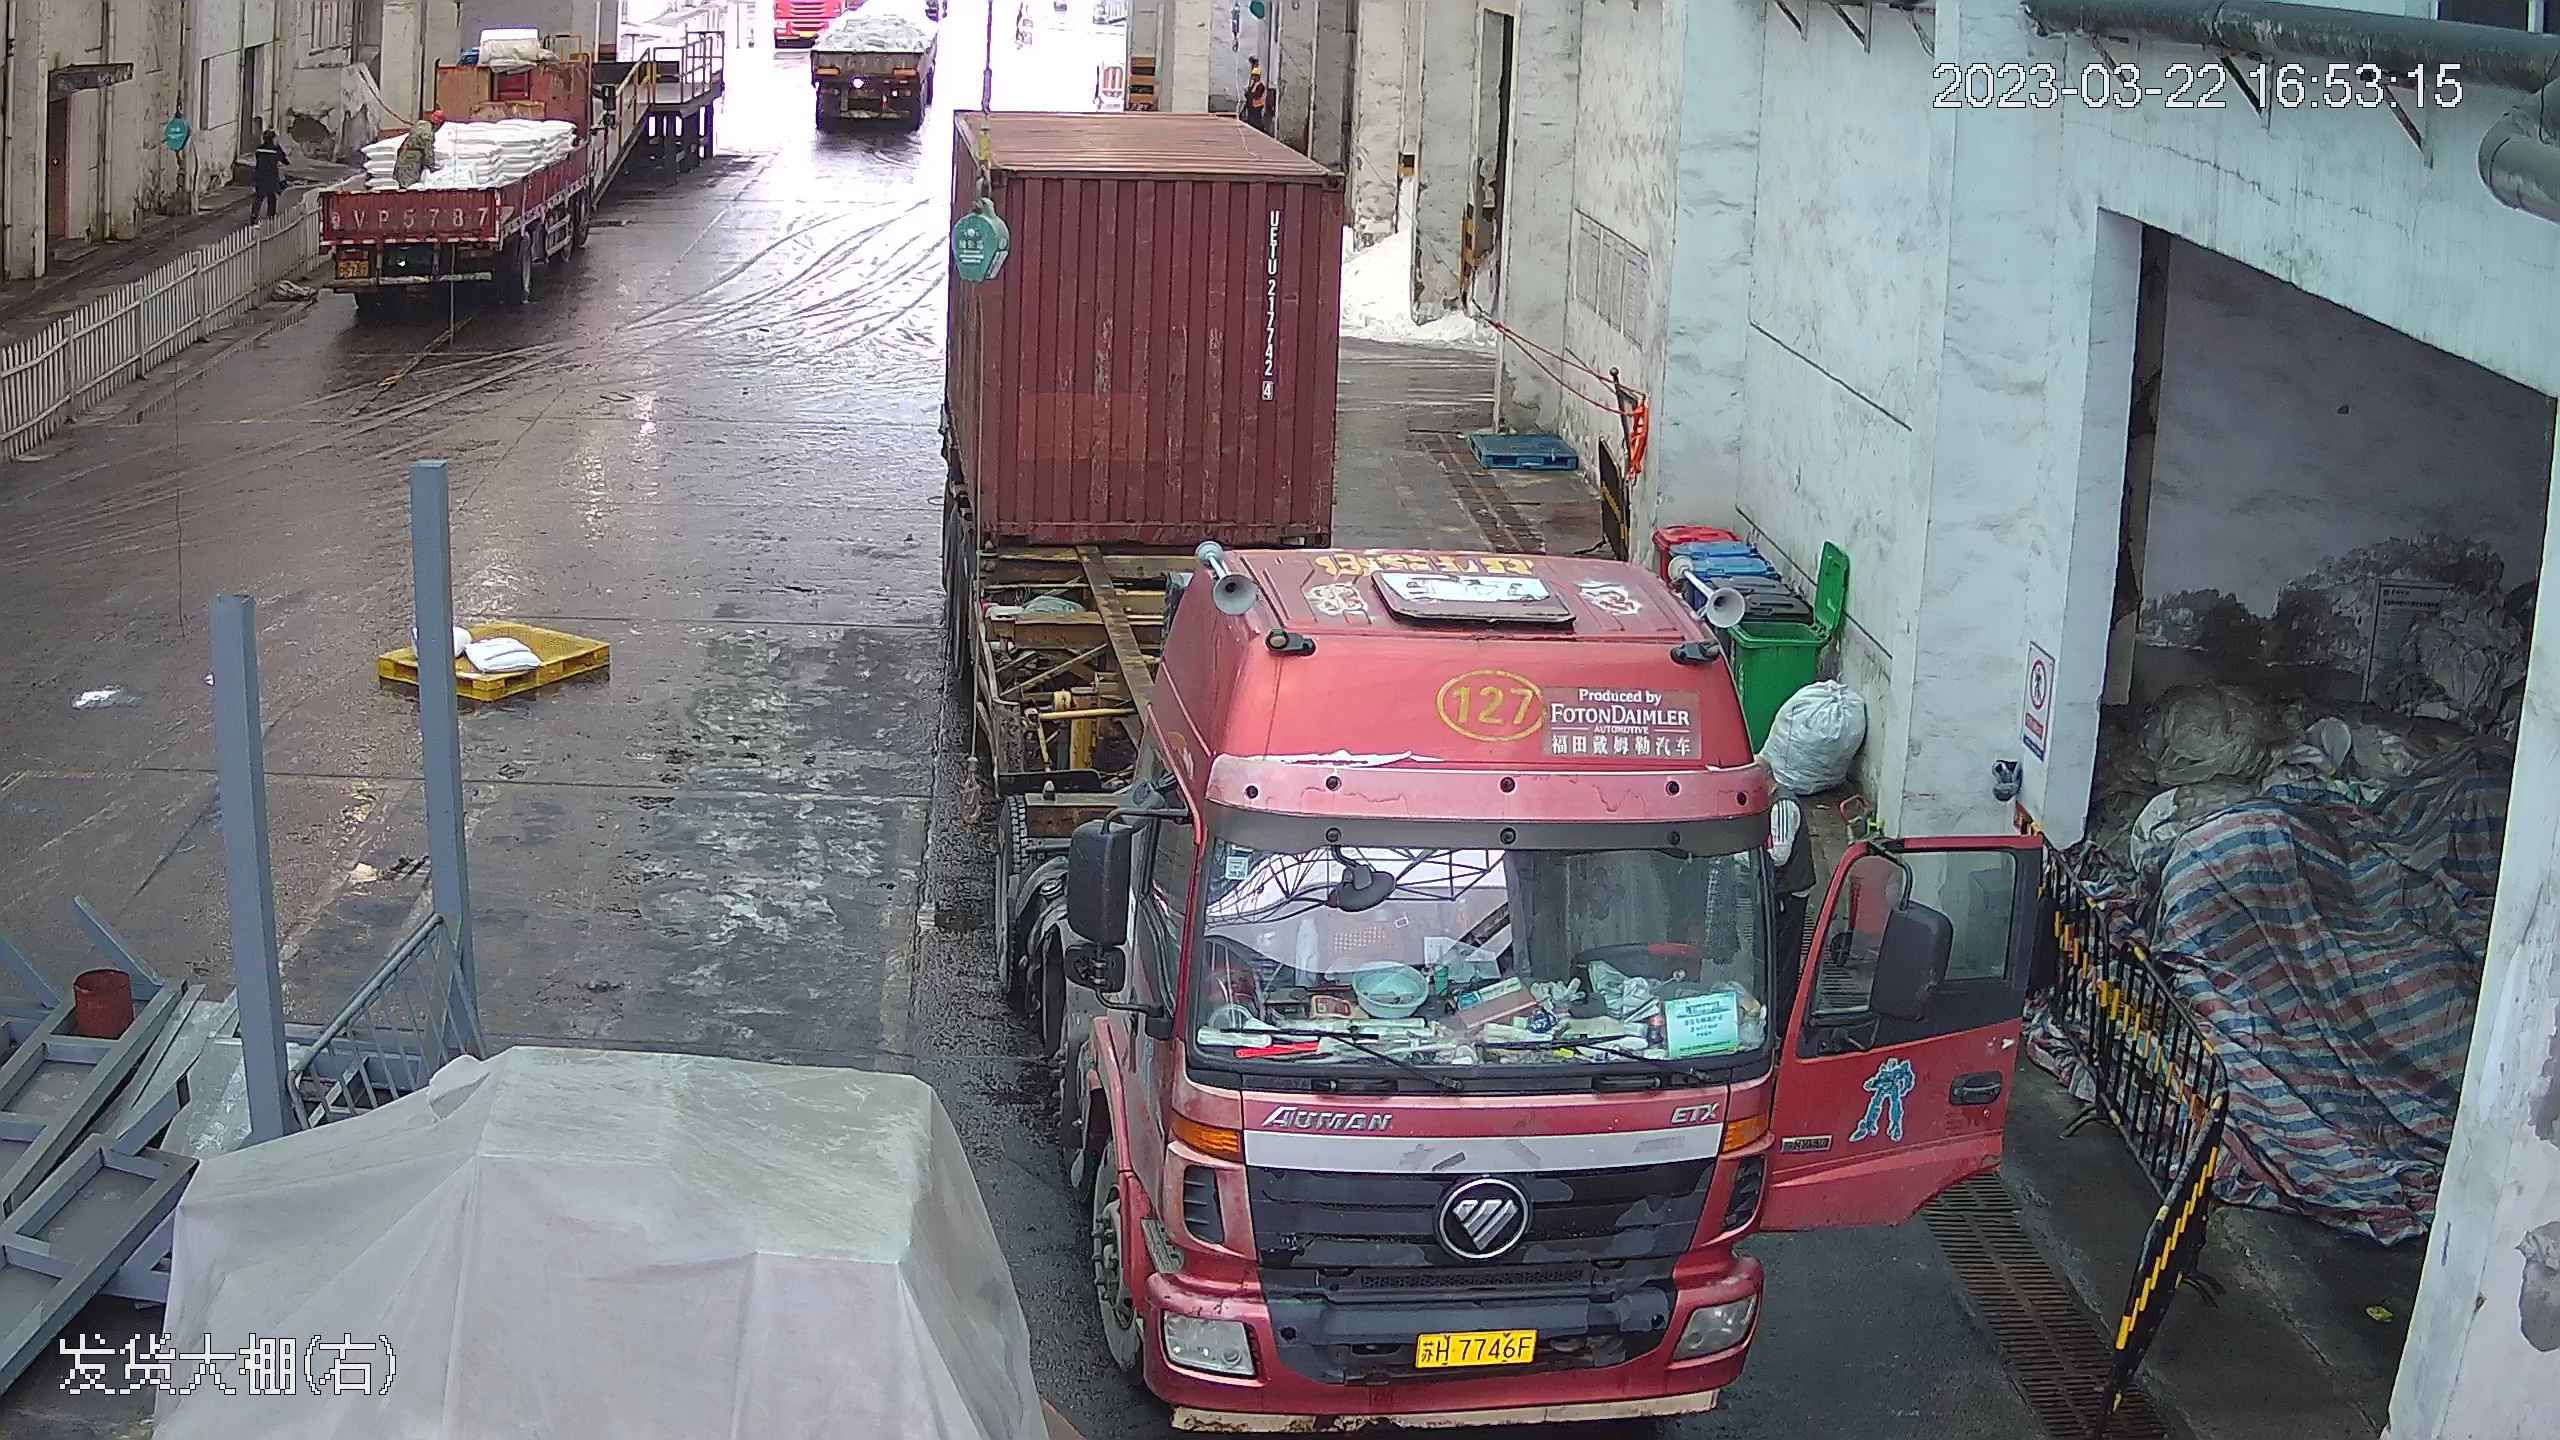belt: (402, 113, 420, 132)
head: (1238, 57, 1271, 105), (403, 110, 446, 143), (254, 127, 283, 159)
helmet: (261, 129, 278, 143), (429, 110, 444, 124), (1249, 66, 1262, 78)
people: (391, 108, 449, 190), (247, 130, 287, 223), (1233, 54, 1275, 141)
truck: (920, 25, 1895, 1433), (306, 9, 656, 300), (772, 1, 938, 128)
